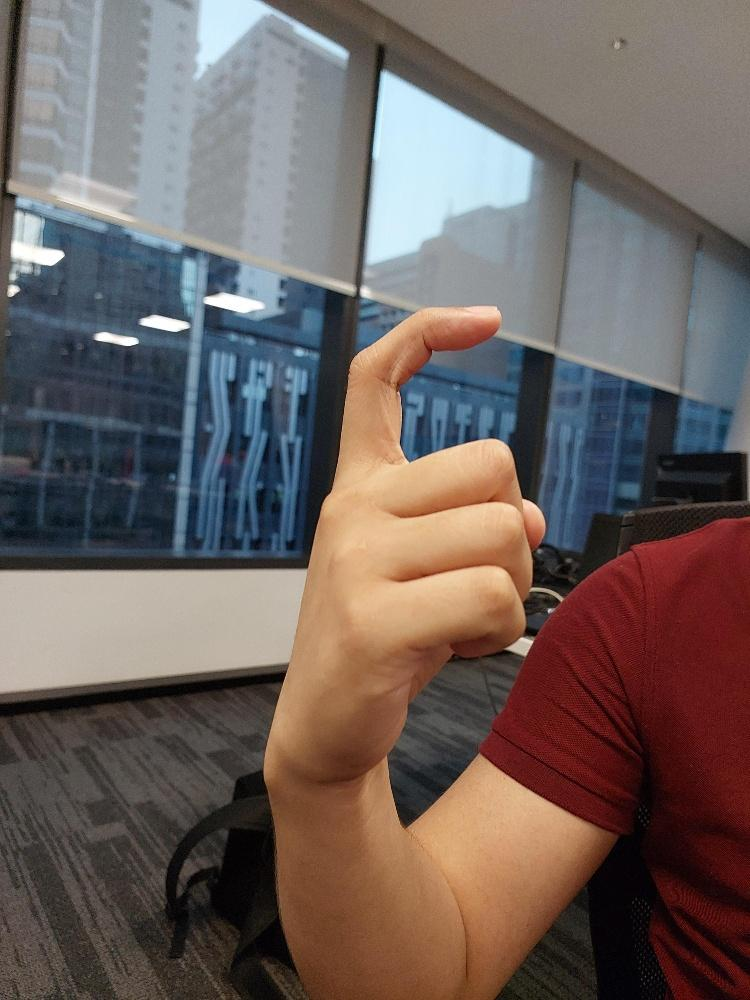x: (265, 299, 548, 783)
